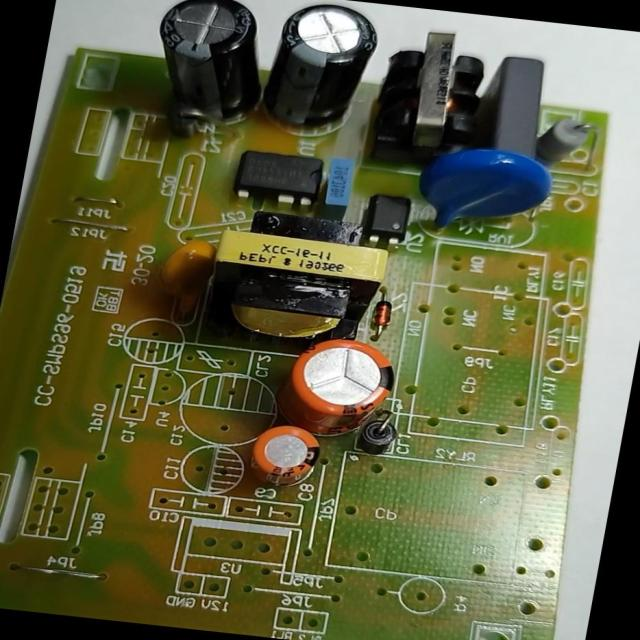Cap1: (274, 327, 406, 442)
Cap2: (242, 420, 329, 490)
Cap3: (253, 0, 389, 144)
Cap4: (144, 0, 269, 124)
MOSFET: (225, 139, 334, 217)
Mov: (412, 136, 566, 244)
Resistor: (534, 106, 600, 168)
Transformer: (192, 200, 403, 362), (355, 24, 499, 177)
